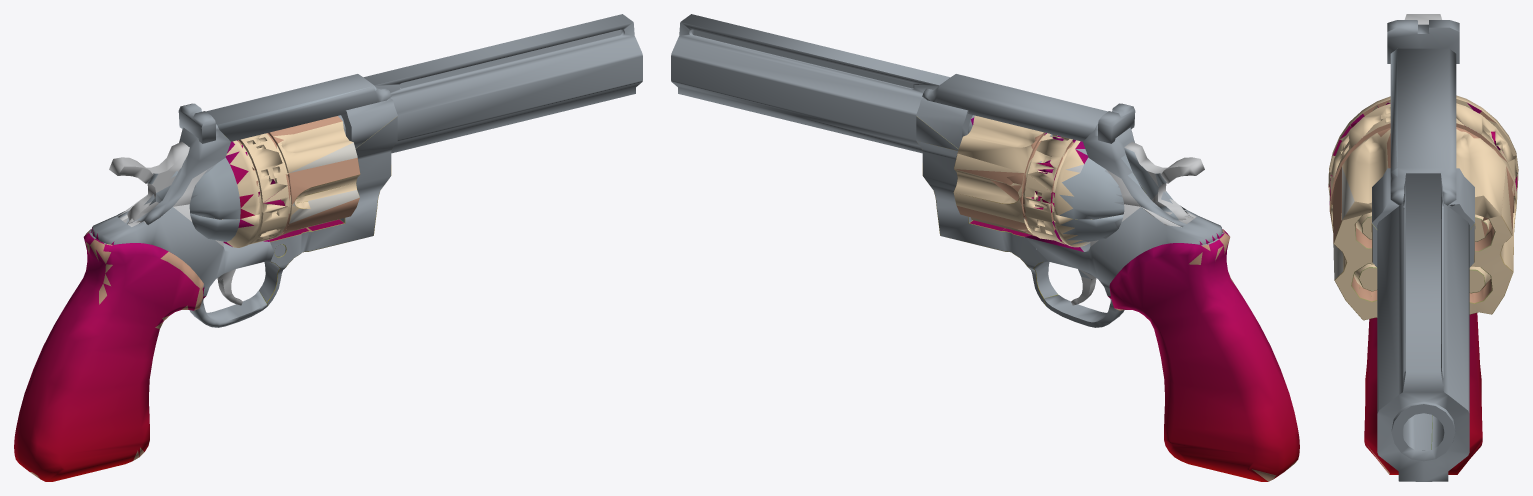
Rendered from wpn_magnum.glb.
3 renders of one model, left to right at view 1: azimuth 30°, elevation 25°; view 2: azimuth 150°, elevation 25°; view 3: azimuth 270°, elevation 25°, orthographic. The views are drawn at different scales.
Parts seen in each view (by area): view 1: wpn_magnum, chien, barillet; view 2: wpn_magnum, chien, barillet; view 3: wpn_magnum, barillet, chien.
Boxes of the visible parts, box(x1,y1,x2,y2) form: wpn_magnum: box(14, 14, 642, 481); chien: box(109, 103, 288, 224); barillet: box(259, 116, 397, 305); wpn_magnum: box(671, 14, 1299, 481); chien: box(1028, 103, 1204, 226); barillet: box(916, 116, 1058, 305); wpn_magnum: box(1328, 48, 1517, 481); barillet: box(1330, 166, 1516, 450); chien: box(1328, 14, 1518, 204).
Size of the model in its own units: 0.38 by 0.1951 by 0.0659.
